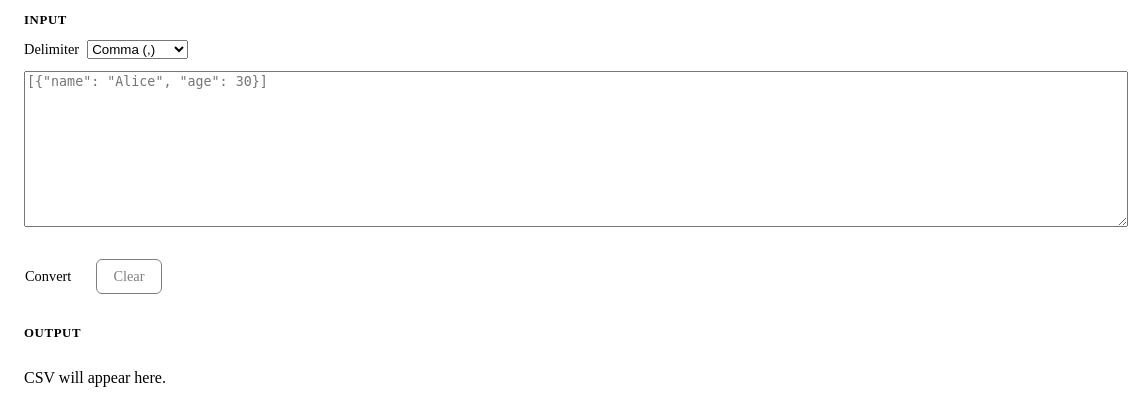
Scenario: JsonToCsvTool › shows an error for a primitive array
The width and height of the screenshot is (1145, 413).
In the text box named "JSON input": (576, 149) top-left (24, 71), bottom-right (1128, 227), type "[\"a\",\"b\"]"
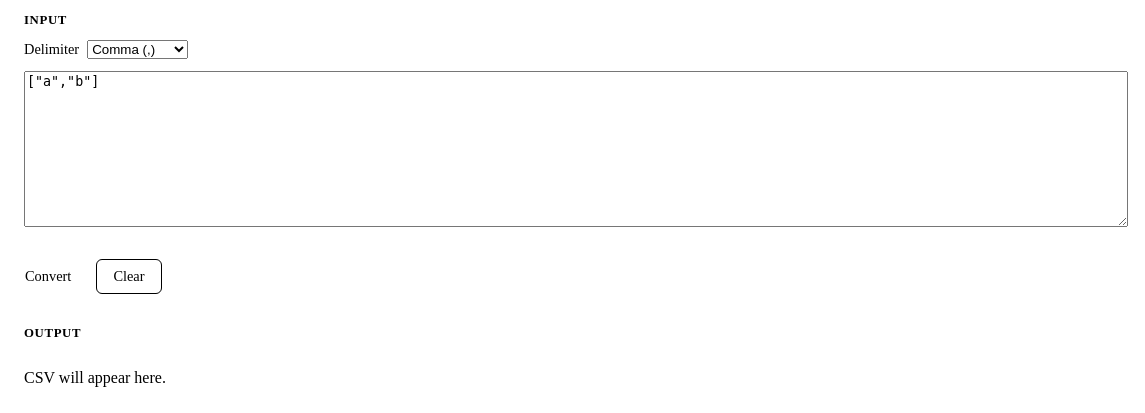
Click the button "Convert": click(48, 276) top-left (8, 259), bottom-right (88, 294)
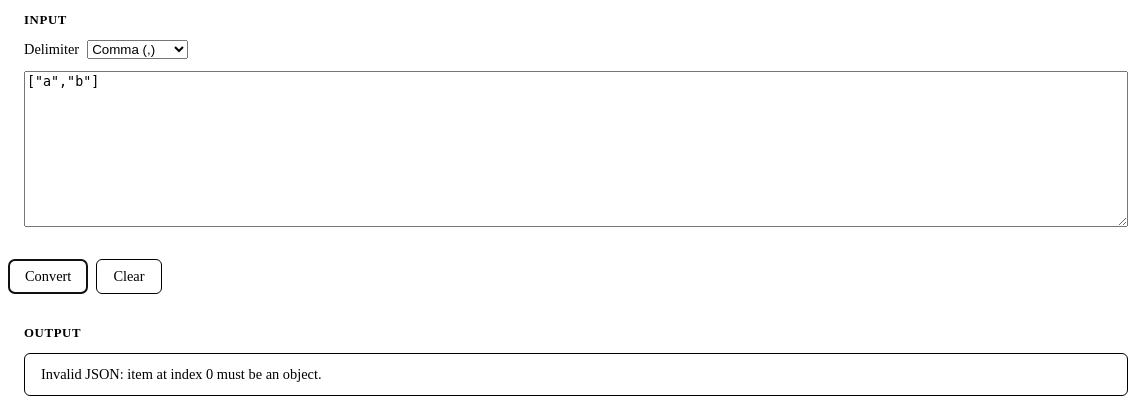
Now the message shows "must be an object", box top-left (41, 366), bottom-right (322, 382)
